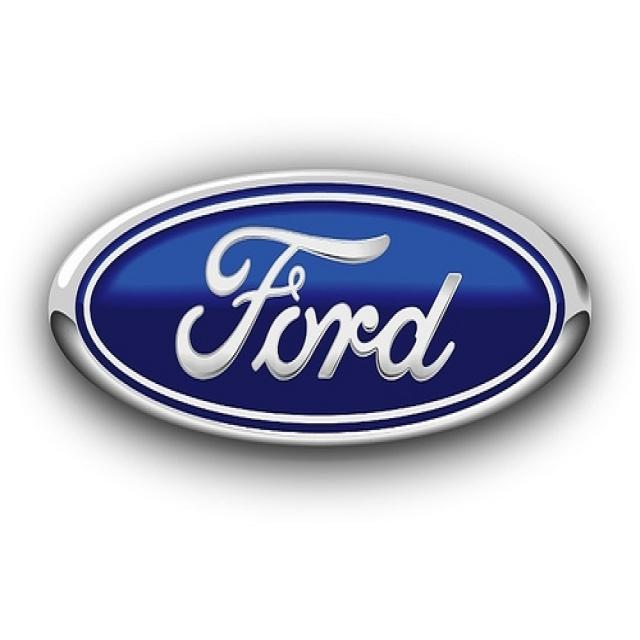ford: (46, 161, 595, 455)
